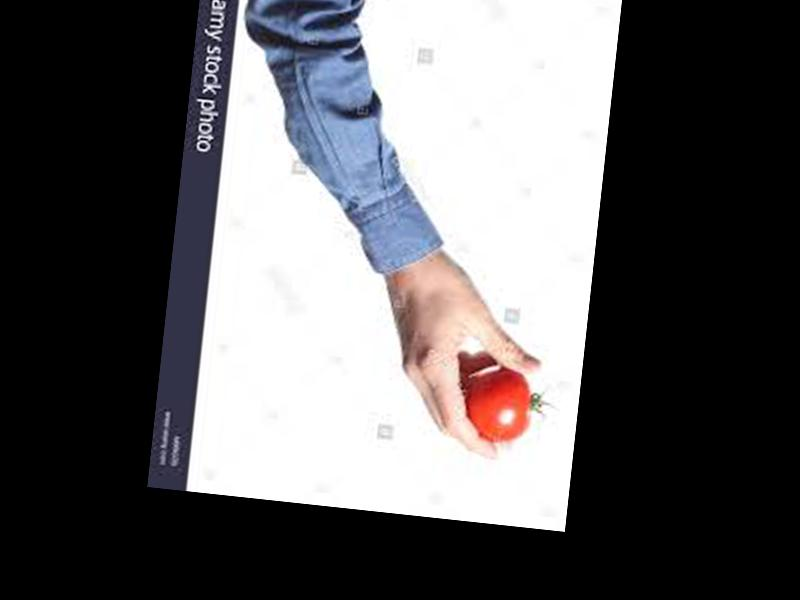Tomato: (464, 367, 533, 446)
